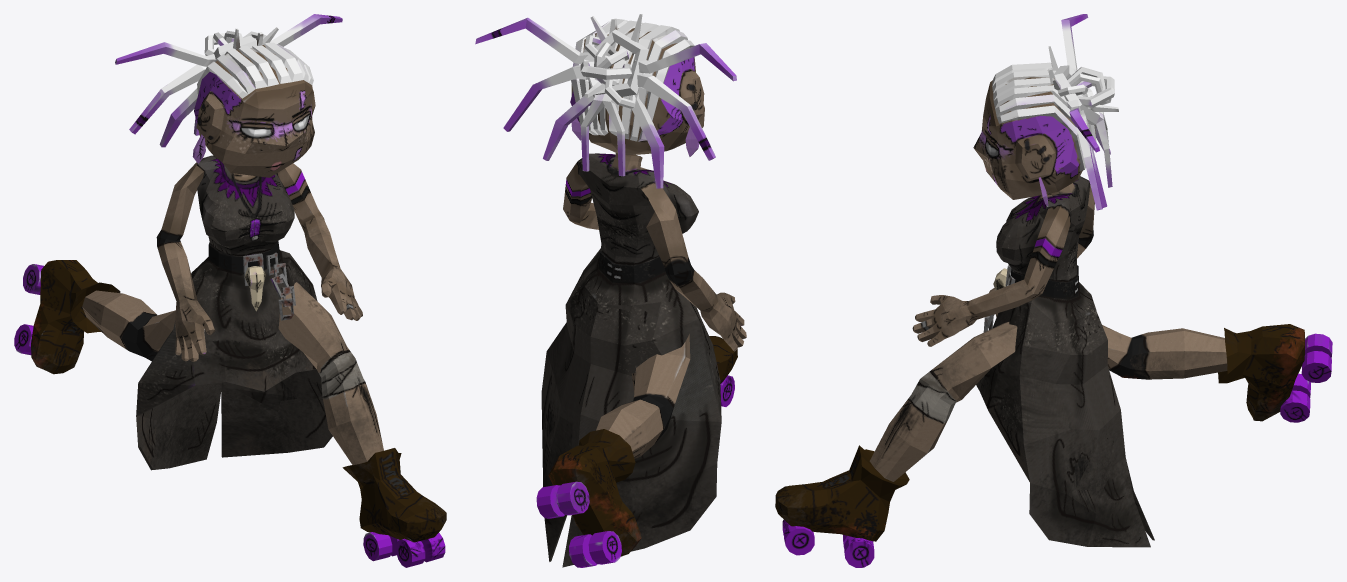
The model's file is bruja_000038.obj.
3 renders of one model, left to right at view 1: azimuth 30°, elevation 25°; view 2: azimuth 150°, elevation 25°; view 3: azimuth 270°, elevation 25°, orthographic. The views are drawn at different scales.
Visible parts, largest first — view 1: Bruja_Plane.001; view 2: Bruja_Plane.001; view 3: Bruja_Plane.001.
Part boxes in pixels (left/top/right/bottom): Bruja_Plane.001: left=14, top=14, right=446, bottom=567; Bruja_Plane.001: left=475, top=14, right=746, bottom=567; Bruja_Plane.001: left=775, top=14, right=1332, bottom=567.
Size of the model in its own units: 7.45 by 14.49 by 15.1.
